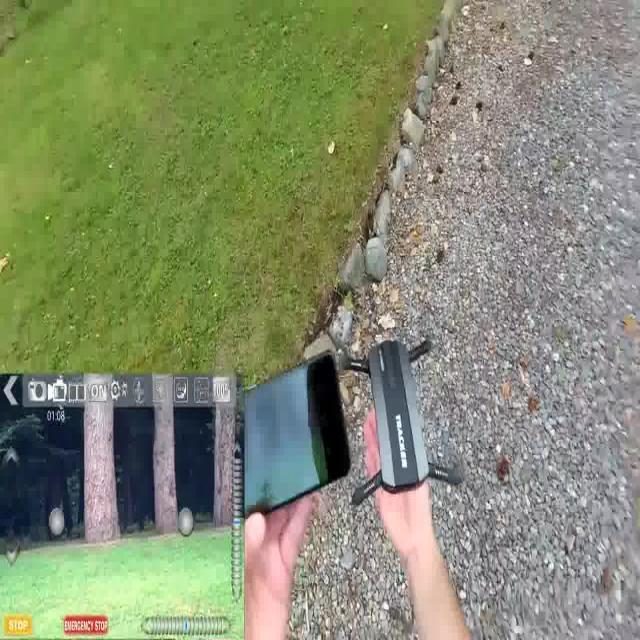drones: (331, 316, 472, 516)
